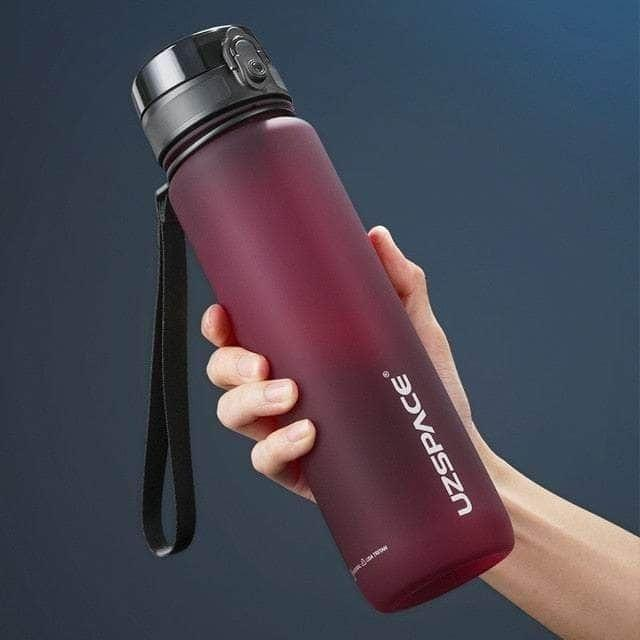gym bottle: (131, 22, 514, 613)
